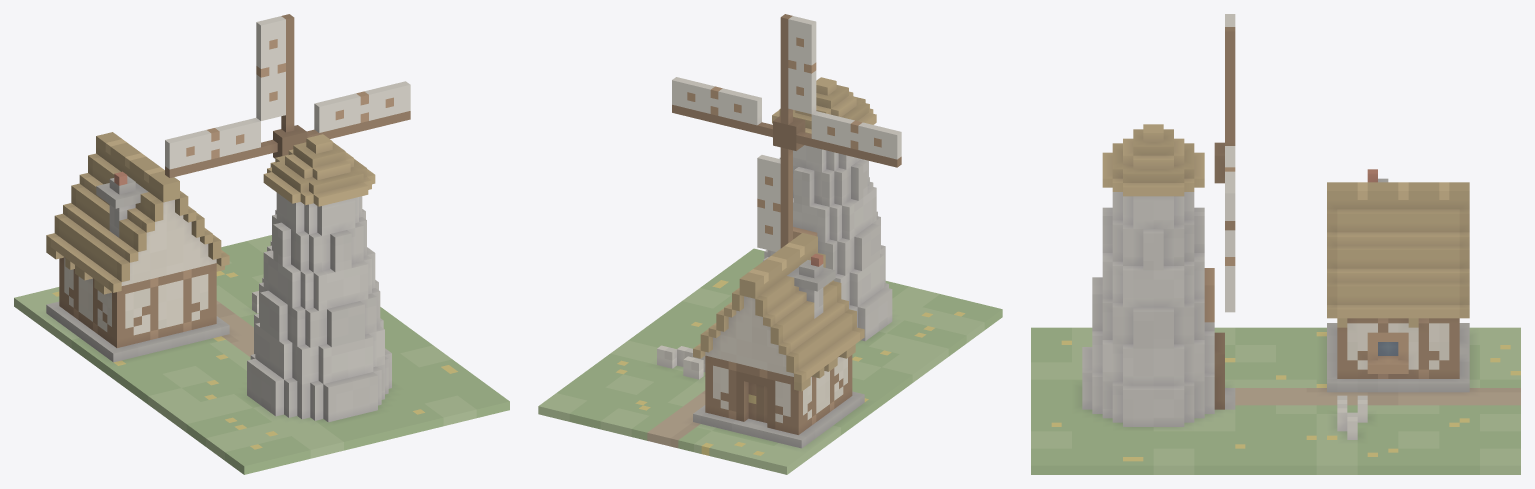
Rendered from mill.glb.
The picture shows the model from 3 angles, left to right: view 1: azimuth 30°, elevation 25°; view 2: azimuth 150°, elevation 25°; view 3: azimuth 270°, elevation 25°; orthographic projection. The views are drawn at different scales.
Parts seen in each view (by area): view 1: mill; view 2: mill; view 3: mill.
Part boxes in pixels (box(x1,y1,x2,y2)): mill: box(14, 14, 509, 474); mill: box(538, 14, 1002, 474); mill: box(1031, 14, 1520, 474).
Bounding box in the file's own units: 4 × 5.12 × 6.
